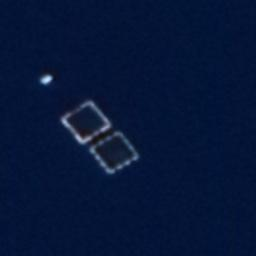square_solid: (85, 126, 144, 178), (60, 98, 117, 150)
